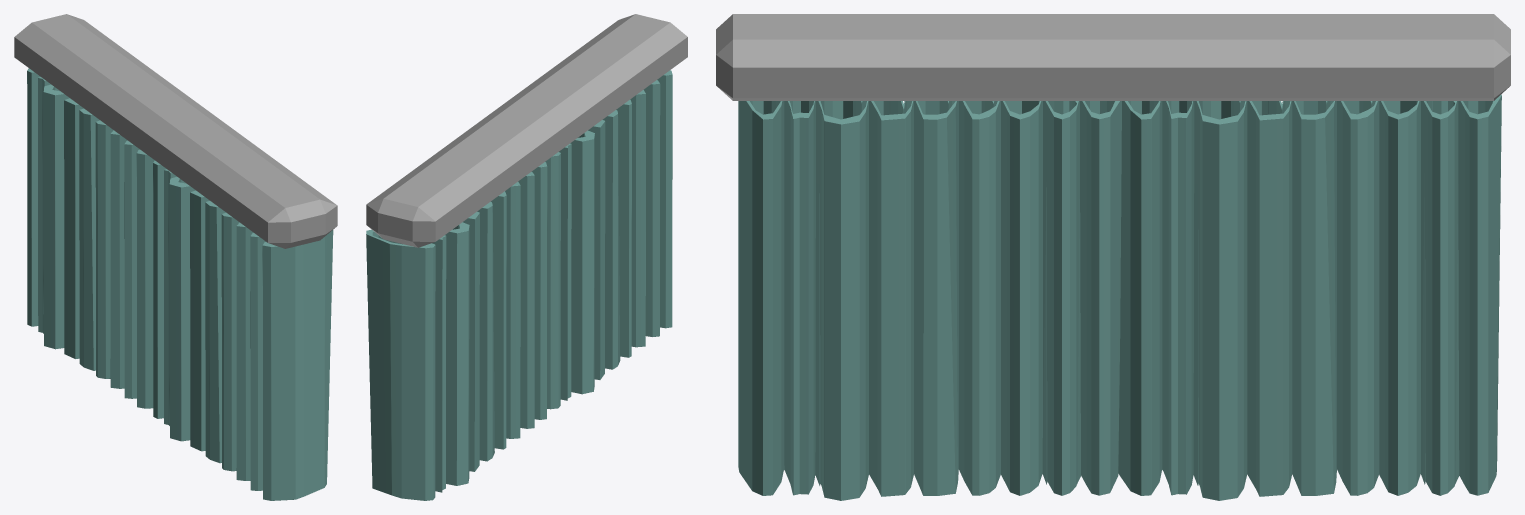
The model's file is cURTAINS.fbx.
3 renders of one model, left to right at view 1: azimuth 30°, elevation 25°; view 2: azimuth 150°, elevation 25°; view 3: azimuth 270°, elevation 25°, orthographic. The views are drawn at different scales.
Visible parts, largest first — view 1: pCube2, pasted__pCube2, pCube3; view 2: pasted__pCube2, pCube2, pCube3; view 3: pCube2, pasted__pCube2, pCube3.
Part boxes in pixels (x1,y1,x2,y2): pCube2: (153, 160, 333, 500); pasted__pCube2: (27, 68, 154, 408); pCube3: (14, 14, 337, 248); pasted__pCube2: (366, 162, 547, 500); pCube2: (545, 70, 672, 409); pCube3: (366, 14, 687, 247); pCube2: (738, 101, 1121, 500); pasted__pCube2: (1118, 94, 1501, 500); pCube3: (716, 14, 1510, 100).
Bounding box in the file's own units: 2.14 × 7.23 × 11.71.
